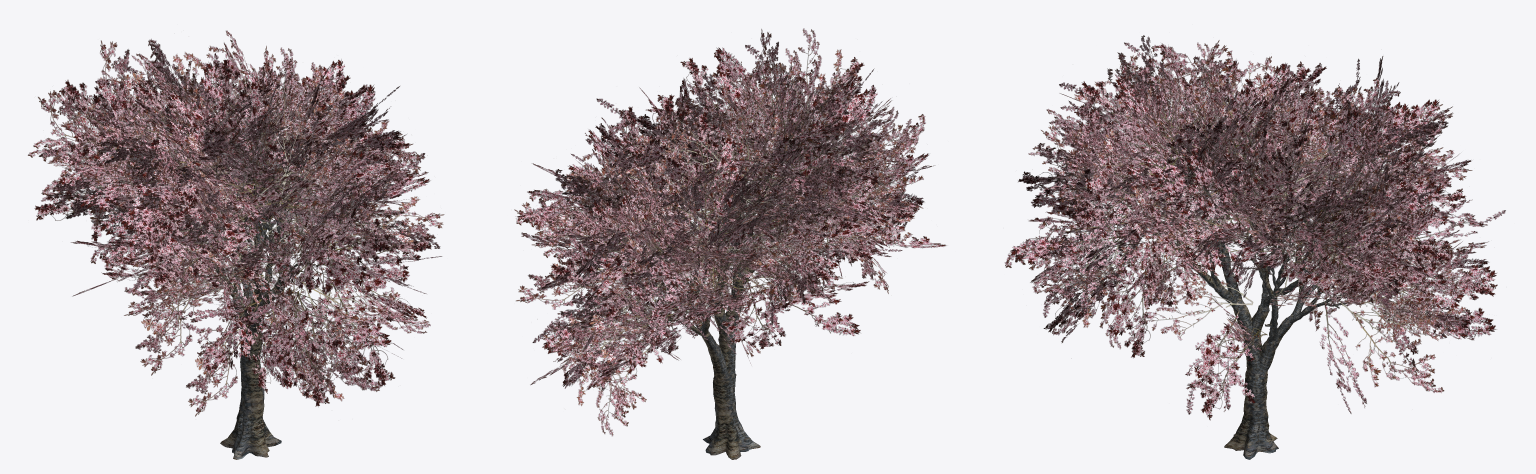
The model's file is tree.glb.
The picture shows the model from 3 angles, left to right: view 1: azimuth 30°, elevation 25°; view 2: azimuth 150°, elevation 25°; view 3: azimuth 270°, elevation 25°; orthographic projection. The views are drawn at different scales.
Visible parts, largest first — view 1: Object_7, Object_3, Object_5, Object_4, Object_6, Object_8, Object_2; view 2: Object_3, Object_7, Object_5, Object_4, Object_6, Object_8, Object_2; view 3: Object_7, Object_5, Object_6, Object_8, Object_4, Object_3, Object_2.
Part boxes in pixels (x1,y1,x2,y2): Object_7: (34, 57, 432, 406); Object_3: (38, 40, 444, 416); Object_5: (28, 30, 440, 398); Object_4: (41, 46, 430, 401); Object_6: (61, 42, 430, 386); Object_8: (40, 53, 441, 358); Object_2: (201, 173, 315, 459); Object_3: (514, 29, 934, 387); Object_7: (547, 57, 919, 377); Object_5: (516, 51, 925, 426); Object_4: (521, 28, 914, 436); Object_6: (516, 47, 946, 390); Object_8: (532, 45, 902, 383); Object_2: (641, 170, 818, 459); Object_7: (1018, 56, 1497, 420); Object_5: (1004, 44, 1474, 392); Object_6: (1009, 43, 1496, 366); Object_8: (1042, 42, 1505, 414); Object_4: (1028, 35, 1486, 349); Object_3: (1041, 40, 1488, 350); Object_2: (1140, 149, 1365, 459).
Bounding box in the file's own units: 11.22 × 12.14 × 14.31.
7 materials, 7 textured.
